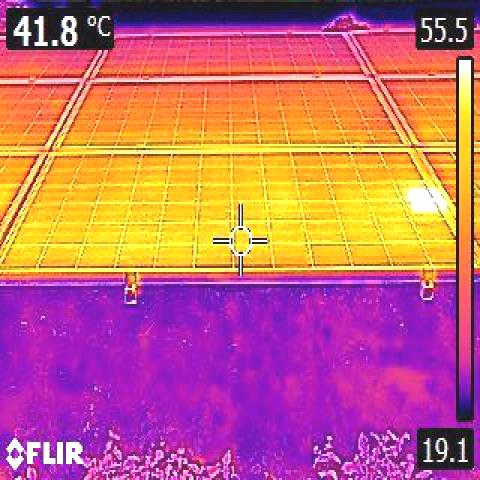fault: (411, 191, 437, 214)
